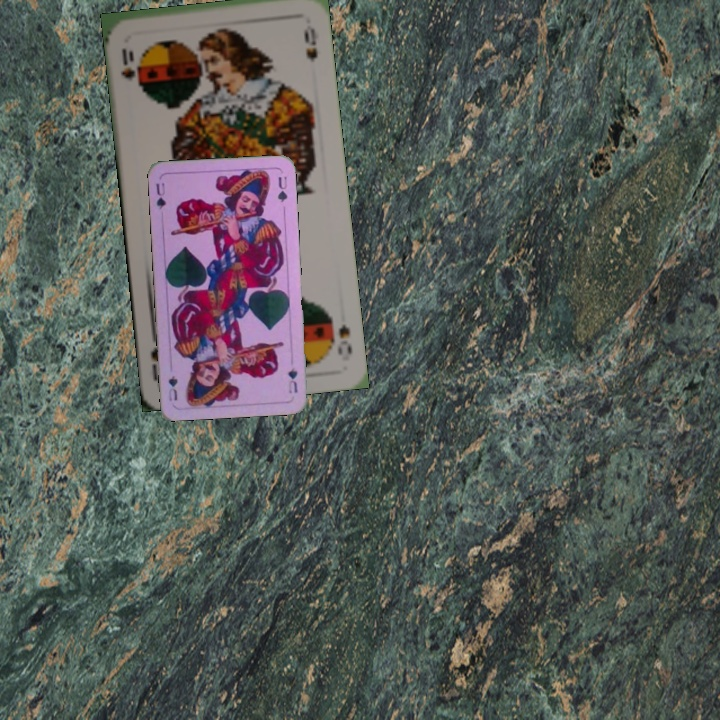GU: (152, 179, 169, 212), (284, 363, 300, 396)
SO: (116, 44, 142, 89), (333, 320, 354, 357)
